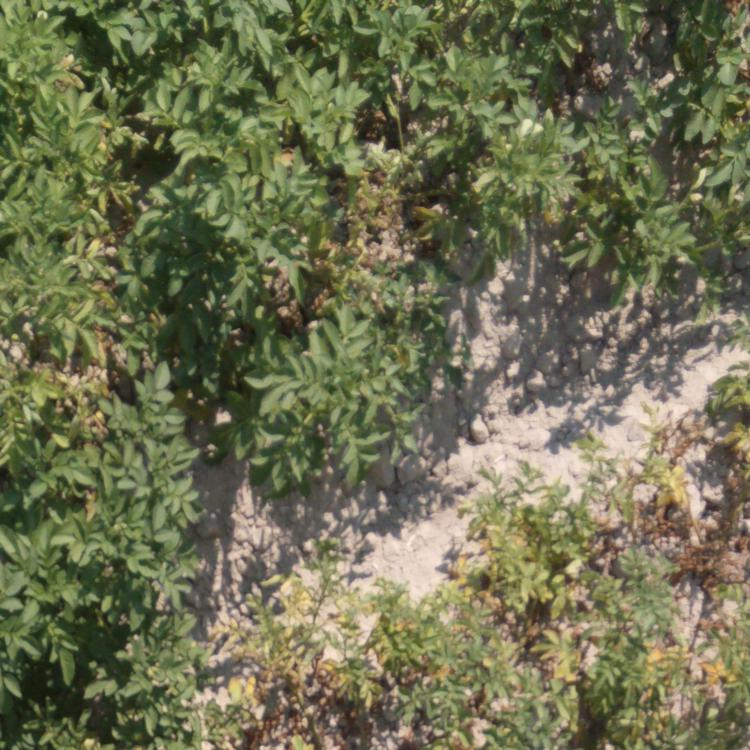healthy: (3, 1, 195, 742), (205, 1, 443, 499), (442, 1, 743, 281)
stressed: (216, 572, 476, 750), (636, 367, 750, 744), (475, 481, 630, 750)
